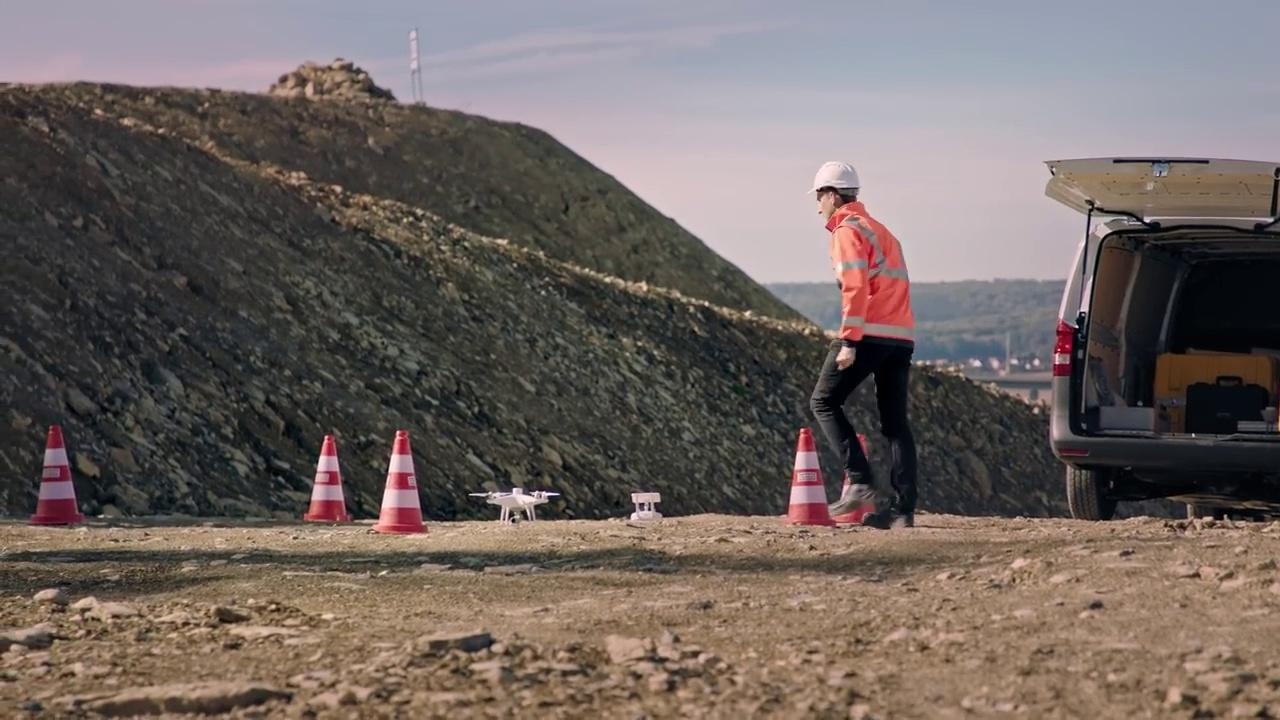drone: (473, 483, 562, 528)
